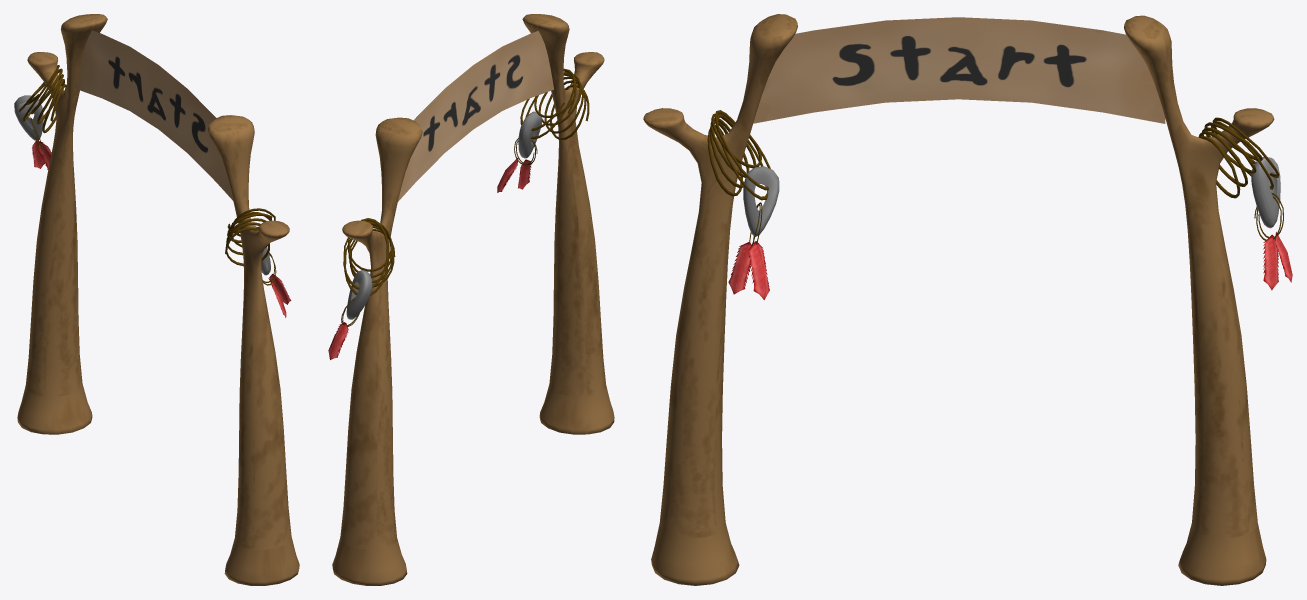
The model's file is Start sign.fbx.
The picture shows the model from 3 angles, left to right: view 1: azimuth 30°, elevation 25°; view 2: azimuth 150°, elevation 25°; view 3: azimuth 270°, elevation 25°; orthographic projection. The views are drawn at different scales.
Visible parts, largest first — view 1: pCube3, pCube1, pPlane3, polySurface26; view 2: pCube1, pCube3, pPlane3, polySurface26, polySurface14, polySurface27, polySurface30; view 3: pPlane3, pCube1, pCube3, polySurface14, polySurface26.
Boxes of the visible parts, box(x1,y1,x2,y2) form: pCube3: box(207, 115, 299, 585); pCube1: box(17, 14, 107, 434); pPlane3: box(77, 30, 232, 200); polySurface26: box(14, 95, 43, 140); pCube1: box(332, 117, 422, 585); pCube3: box(522, 14, 614, 434); pPlane3: box(398, 31, 553, 201); polySurface26: box(346, 270, 372, 319); polySurface14: box(518, 111, 542, 158); polySurface27: box(343, 218, 388, 289); polySurface30: box(328, 322, 348, 359); pPlane3: box(753, 17, 1165, 123); pCube1: box(1124, 15, 1274, 585); pCube3: box(643, 14, 797, 585); polySurface14: box(743, 166, 779, 236); polySurface26: box(1251, 157, 1280, 228).
Bounding box in the file's own units: 1.41 × 6.81 × 7.27.
Materials: 9 (6 with a texture image).
